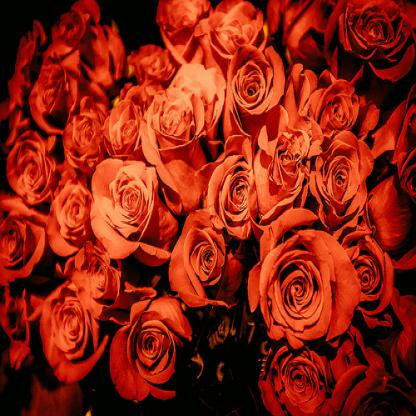ROSE-MAWAR: (2, 7, 414, 413)
